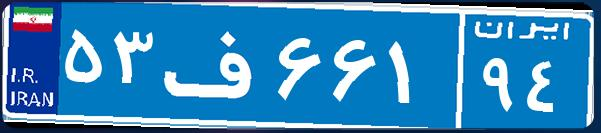1: (385, 28, 445, 110)
3: (110, 28, 158, 105)
4: (525, 38, 570, 115)
5: (57, 26, 110, 107)
6: (273, 28, 330, 110), (330, 28, 385, 110)
9: (475, 38, 525, 113)
ف: (158, 15, 273, 115)
